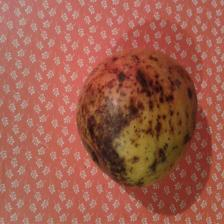Mango Semirotten: (77, 44, 193, 186)
